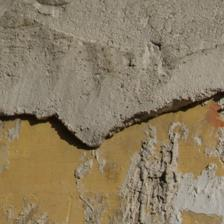Crack: (2, 44, 217, 111)
